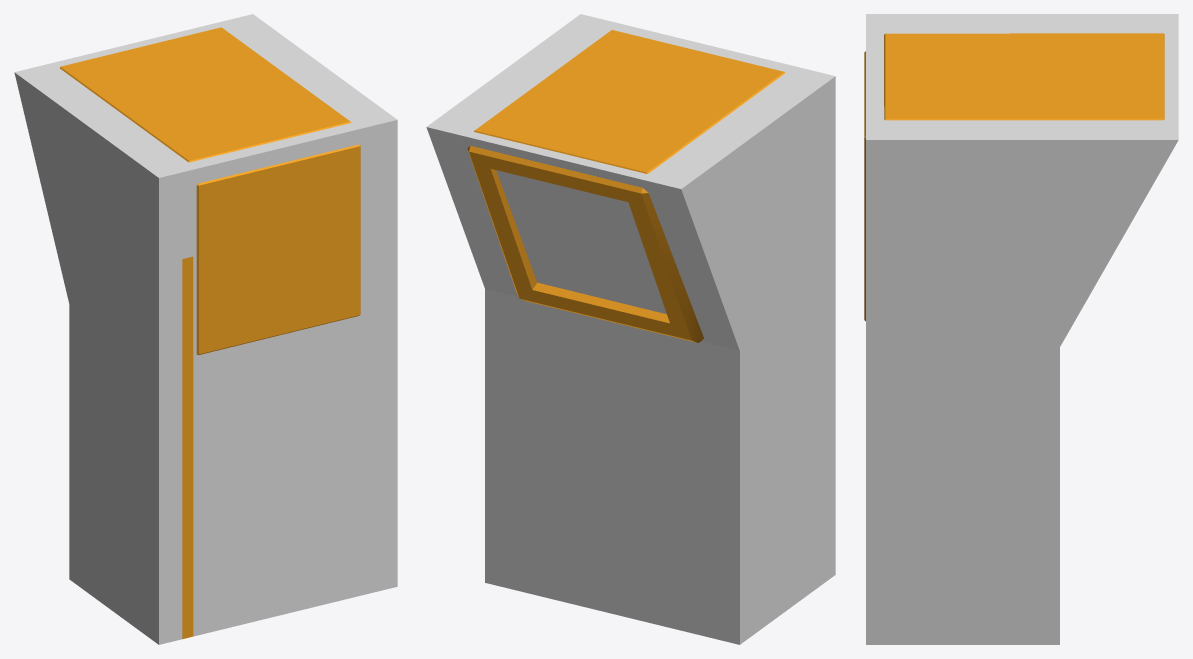
Rendered from Arena_Beam_Short.fbx.
The picture shows the model from 3 angles, left to right: view 1: azimuth 30°, elevation 25°; view 2: azimuth 150°, elevation 25°; view 3: azimuth 270°, elevation 25°; orthographic projection. The views are drawn at different scales.
Visible parts, largest first — view 1: Beam_Col.001, Beam.001; view 2: Beam_Col.001, Beam.001; view 3: Beam_Col.001, Beam.001.
Boxes of the visible parts, box(x1,y1,x2,y2) form: Beam_Col.001: box(14, 14, 397, 644); Beam.001: box(60, 27, 360, 639); Beam_Col.001: box(426, 14, 835, 644); Beam.001: box(467, 30, 784, 342); Beam_Col.001: box(866, 14, 1178, 644); Beam.001: box(864, 33, 1164, 321).
Bounding box in the file's own units: 200 × 375 × 211.
